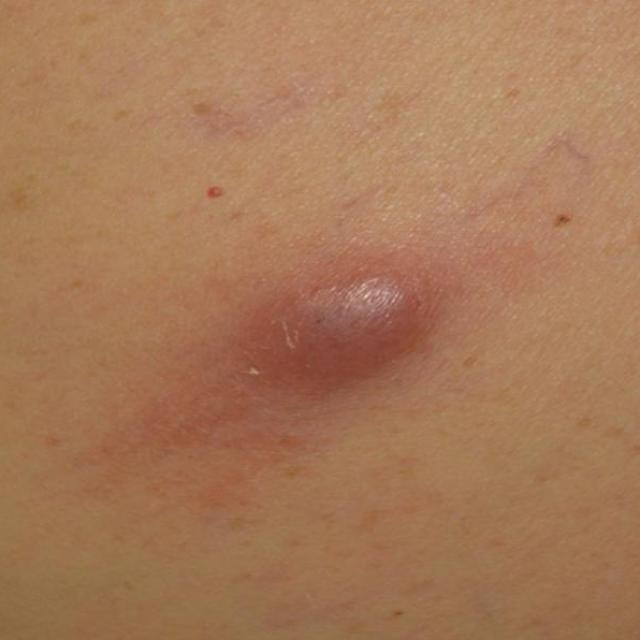nodule: (184, 222, 488, 409)
